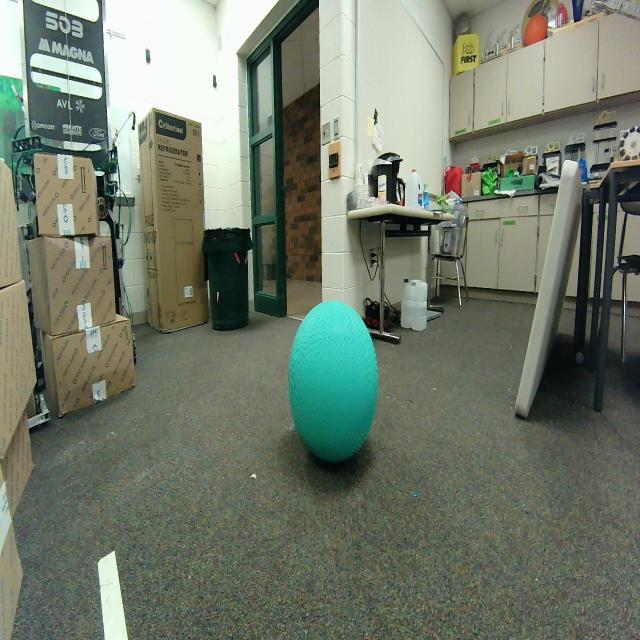algae: (288, 300, 378, 470)
